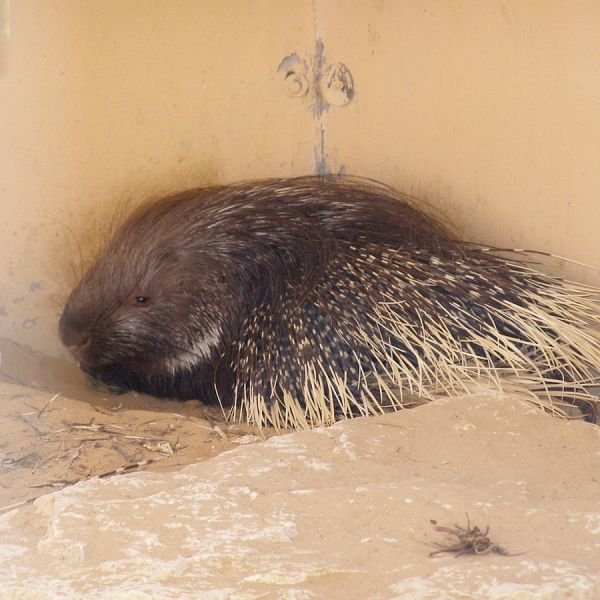porcupine: (46, 171, 600, 439)
